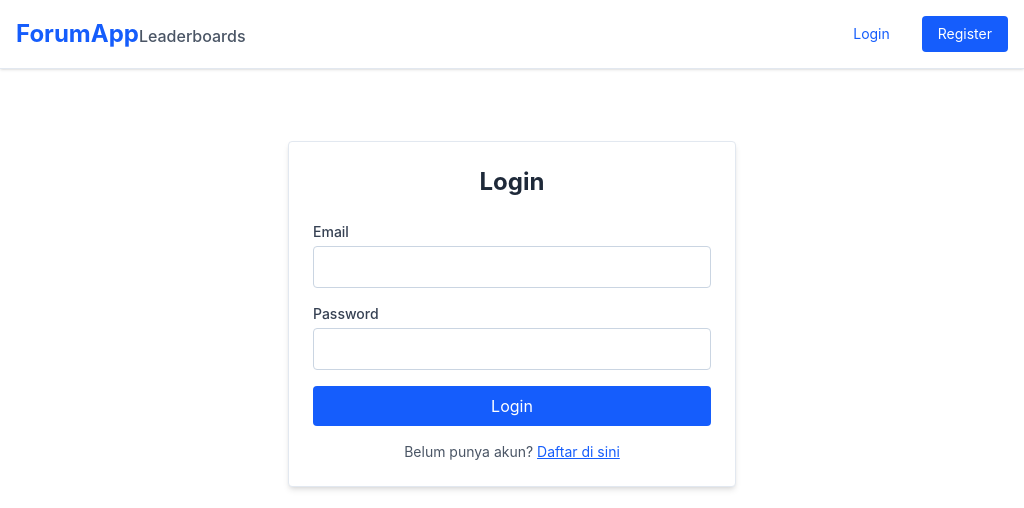
Test: Login Feature › should login successfully
The width and height of the screenshot is (1024, 508).
Type "abidzar037@dicoding.com" into the field at point(512, 267), box 313,246 -> 711,288
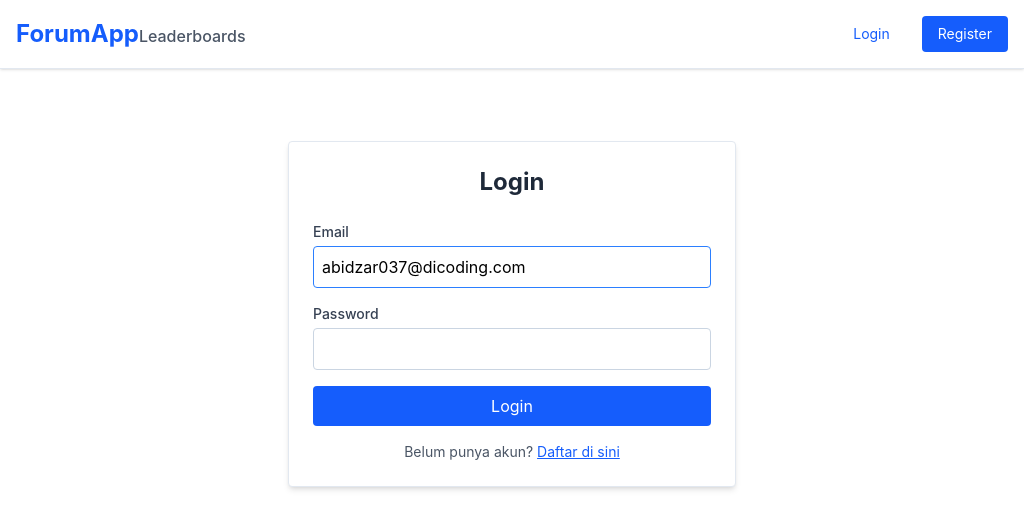
Type "password123" into the password field at point(512, 349), box 313,328 -> 711,370
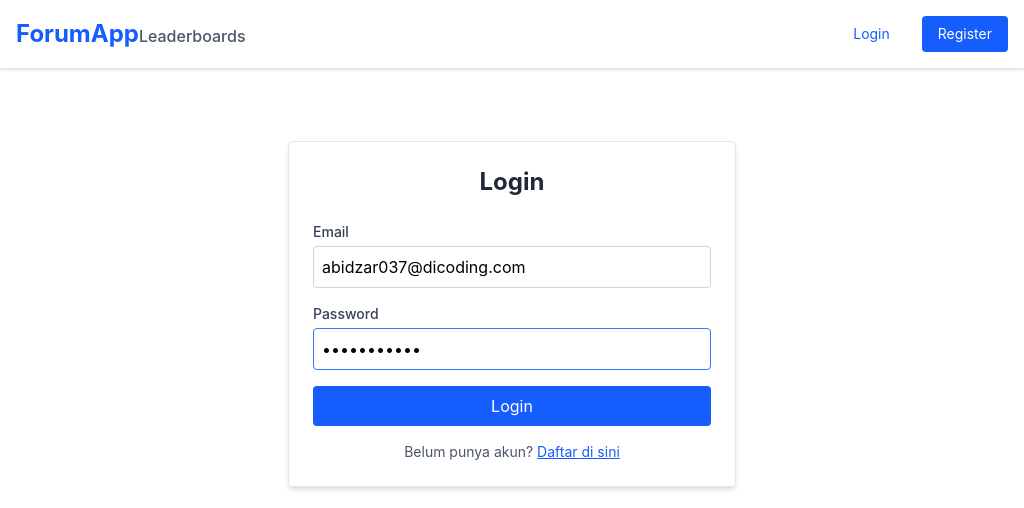
Click the button "Login" at point(512, 406), box 313,386 -> 711,426
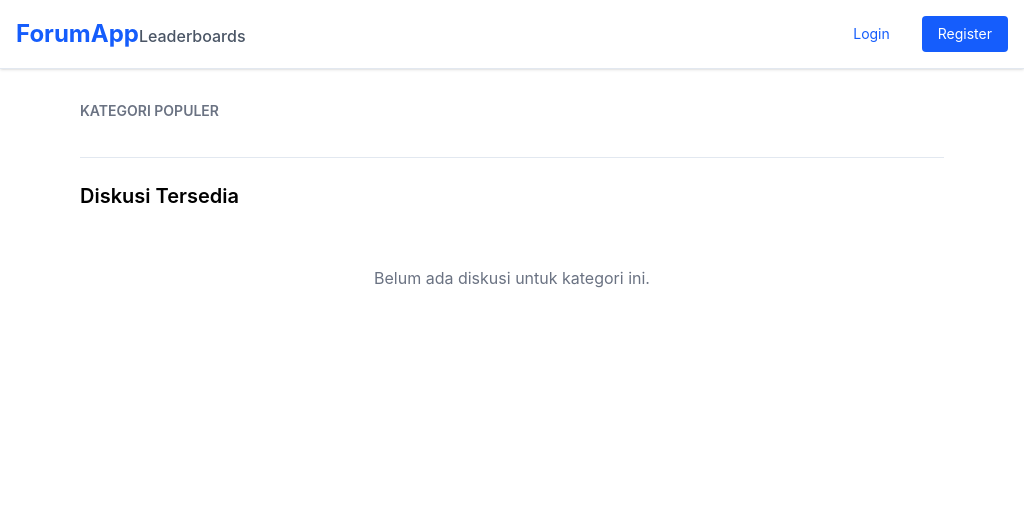
Now the field is gone
